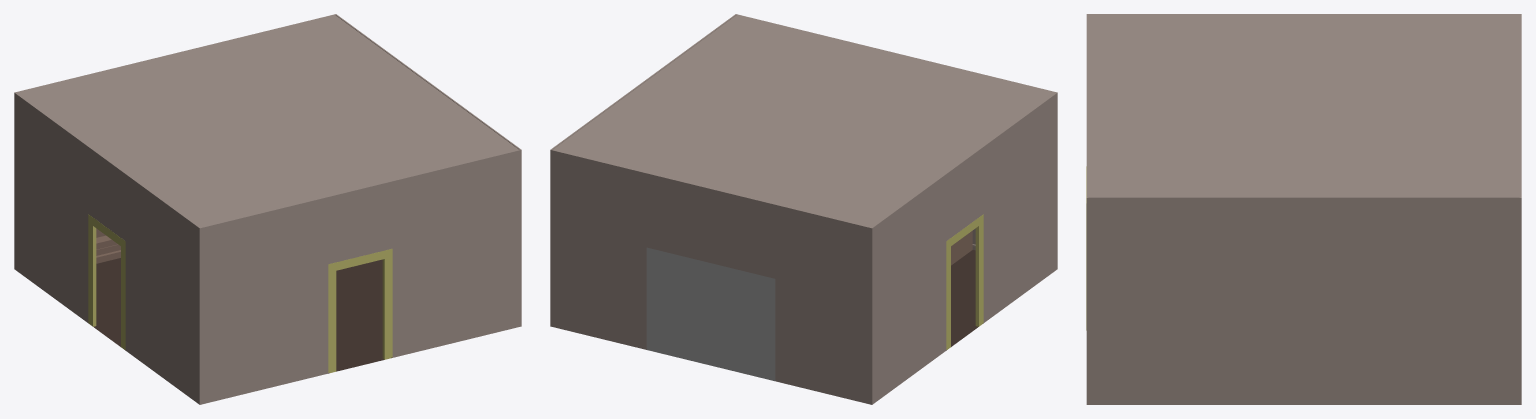
File: Room31_Library.fbx
3 renders of one model, left to right at view 1: azimuth 30°, elevation 25°; view 2: azimuth 150°, elevation 25°; view 3: azimuth 270°, elevation 25°, orthographic. The views are drawn at different scales.
Parts seen in each view (by area): view 1: Roof, WallSlicedPosZ, WallSlicedPosX, WallSlicedPosZ16, Floor, WallSlicedPosX2, DoorFramePosZ, DoorFramePosX, WallNegX, pCube208, WallNegZ; view 2: Roof, WallNegZ, WallSlicedPosX, pCylinder11, WallNegZ6, WallSlicedPosX2, Floor, DoorFramePosX, WallNegX, WallSlicedPosZ; view 3: Roof, WallNegX, WallNegX14, WallNegZ, WallSlicedPosZ, WallSlicedPosX.
Part boxes in pixels (<box>): Roof: <box>16,15,518,227</box>; WallSlicedPosZ: <box>199,149,521,364</box>; WallSlicedPosX: <box>14,92,200,364</box>; WallSlicedPosZ16: <box>198,286,521,404</box>; Floor: <box>88,258,392,373</box>; WallSlicedPosX2: <box>14,229,201,404</box>; DoorFramePosZ: <box>328,248,392,372</box>; DoorFramePosX: <box>88,214,125,349</box>; WallNegX: <box>335,14,521,285</box>; pCube208: <box>96,228,120,263</box>; WallNegZ: <box>14,14,335,183</box>; Roof: <box>553,15,1055,227</box>; WallNegZ: <box>550,149,872,364</box>; WallSlicedPosX: <box>871,92,1057,364</box>; pCylinder11: <box>646,247,775,381</box>; WallNegZ6: <box>550,286,873,404</box>; WallSlicedPosX2: <box>870,230,1056,404</box>; Floor: <box>946,250,983,350</box>; DoorFramePosX: <box>946,214,983,349</box>; WallNegX: <box>550,14,736,285</box>; WallSlicedPosZ: <box>736,14,1057,228</box>; Roof: <box>1088,14,1519,197</box>; WallNegX: <box>1086,197,1521,357</box>; WallNegX14: <box>1086,357,1521,404</box>; WallNegZ: <box>1519,14,1521,197</box>; WallSlicedPosZ: <box>1086,14,1088,197</box>; WallSlicedPosX: <box>1086,14,1521,14</box>.
Size of the model in its own units: 801 by 421 by 800.
